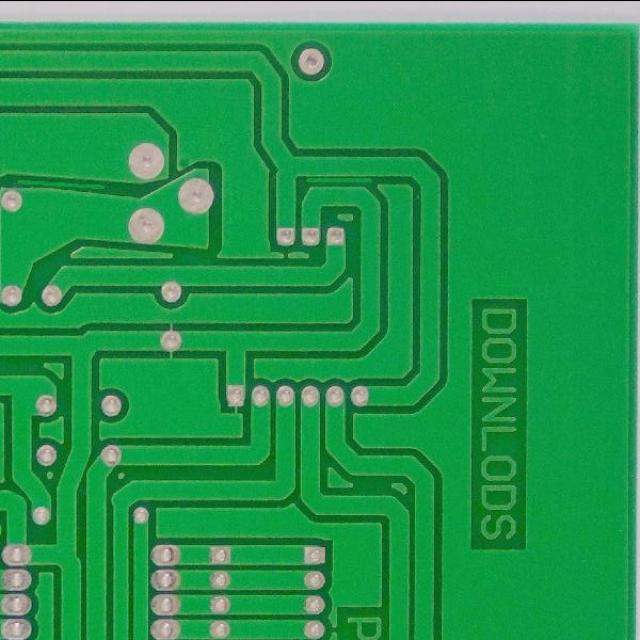Spurious_Cooper: (14, 175, 109, 191), (303, 174, 373, 187)
